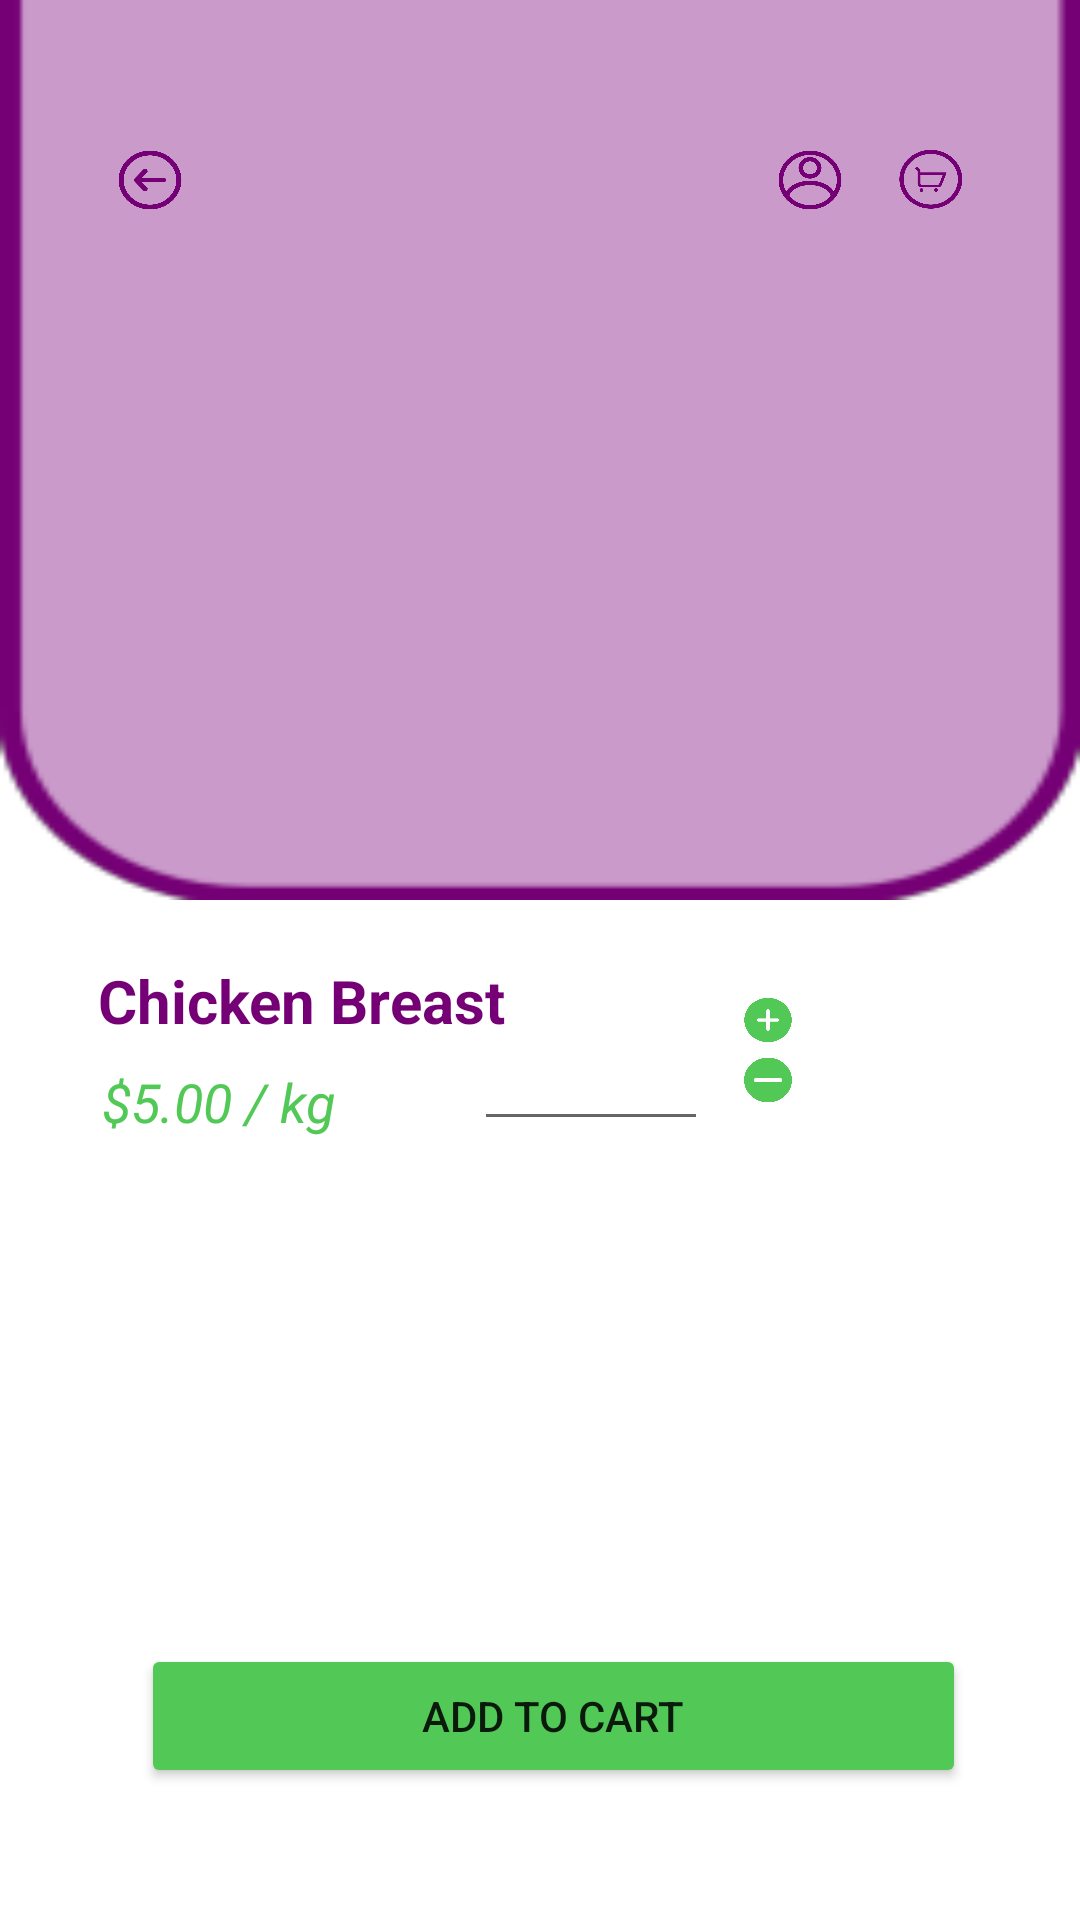

Icon click points for this 1080px x 1920px phone screenshot, format (x,y):
back: (150,180)
cart: (930,179)
user: (810,180)
